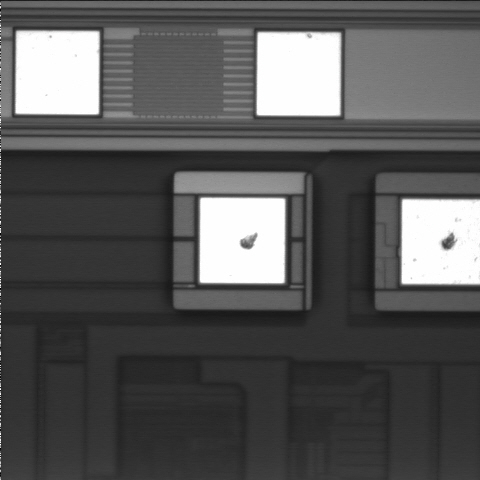pad: (200, 198, 285, 283), (257, 32, 340, 116), (16, 31, 99, 114)
